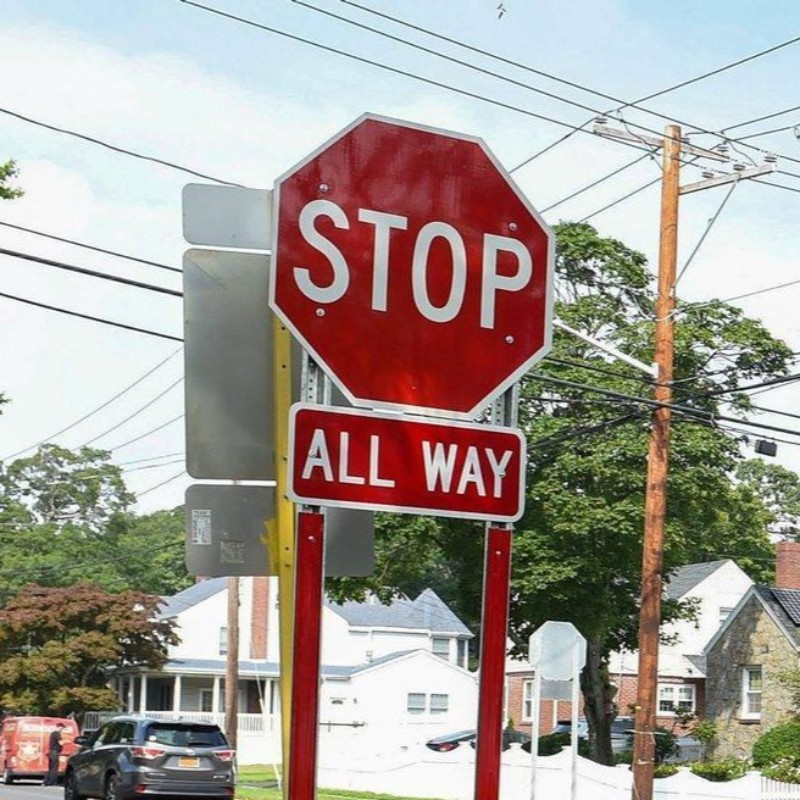stop: (266, 114, 549, 424)
